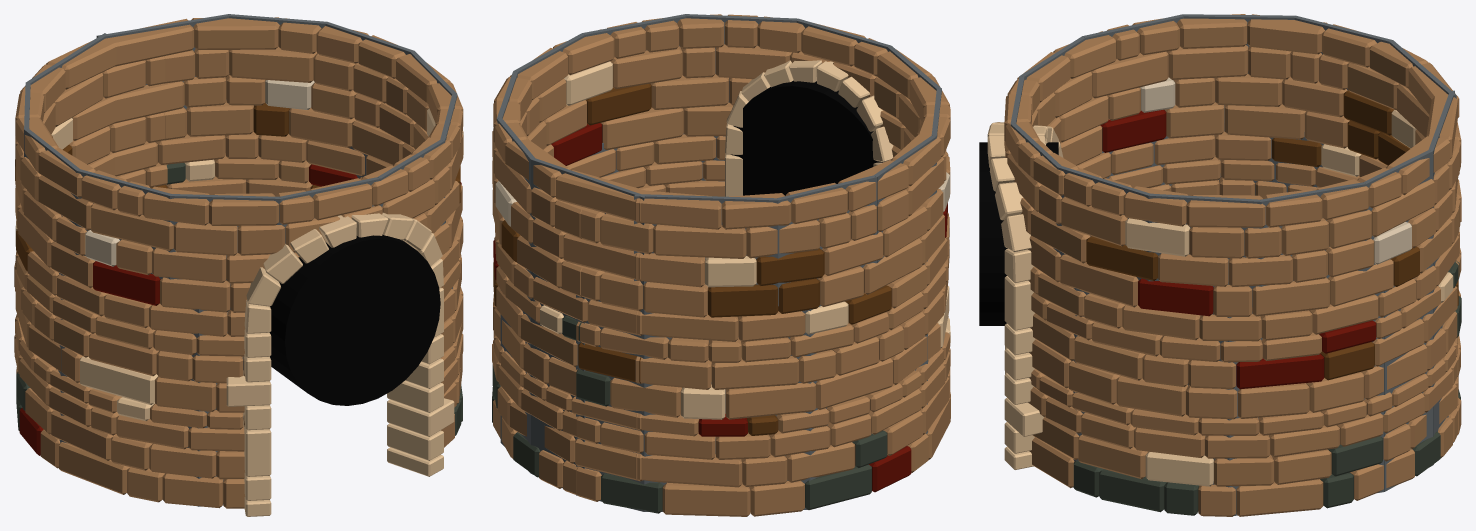
Rendered from base-section-with-doorway-rb.glb.
3 views of the same model, side by side, from view 1: azimuth 30°, elevation 25°; view 2: azimuth 150°, elevation 25°; view 3: azimuth 270°, elevation 25° (orthographic). The views are drawn at different scales.
Parts seen in each view (by area): view 1: main-wall.285, base-section-with-doorway, doorframe, grout-wall; view 2: main-wall.285, base-section-with-doorway, grout-wall, doorframe; view 3: main-wall.285, doorframe, grout-wall, base-section-with-doorway.
Boxes of the visible parts, x1,y1,x2,y2 form: main-wall.285: [14, 17, 463, 508]; base-section-with-doorway: [269, 234, 440, 405]; doorframe: [226, 212, 454, 516]; grout-wall: [24, 14, 457, 506]; main-wall.285: [492, 14, 950, 516]; base-section-with-doorway: [731, 80, 883, 195]; grout-wall: [496, 14, 941, 511]; doorframe: [725, 60, 893, 196]; main-wall.285: [1004, 14, 1461, 516]; doorframe: [987, 122, 1063, 469]; grout-wall: [1010, 14, 1456, 515]; base-section-with-doorway: [979, 142, 1058, 325].
Bounding box in the file's own units: 2.9 × 2.19 × 3.05.
